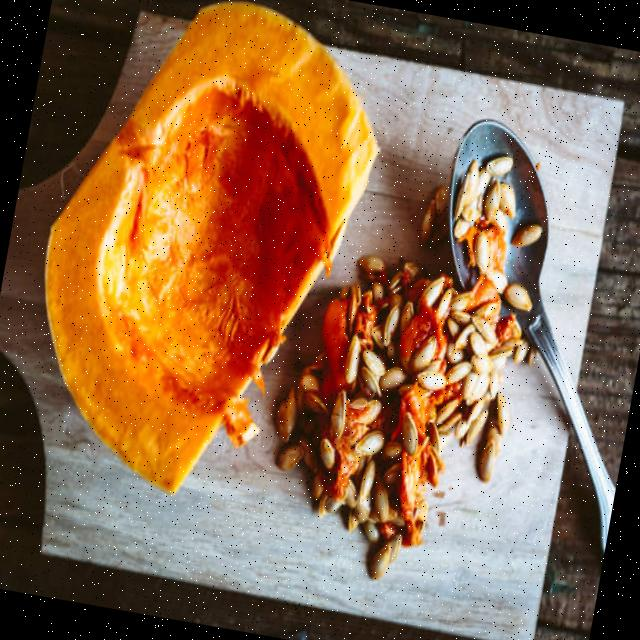pumpkin: (45, 2, 378, 492)
